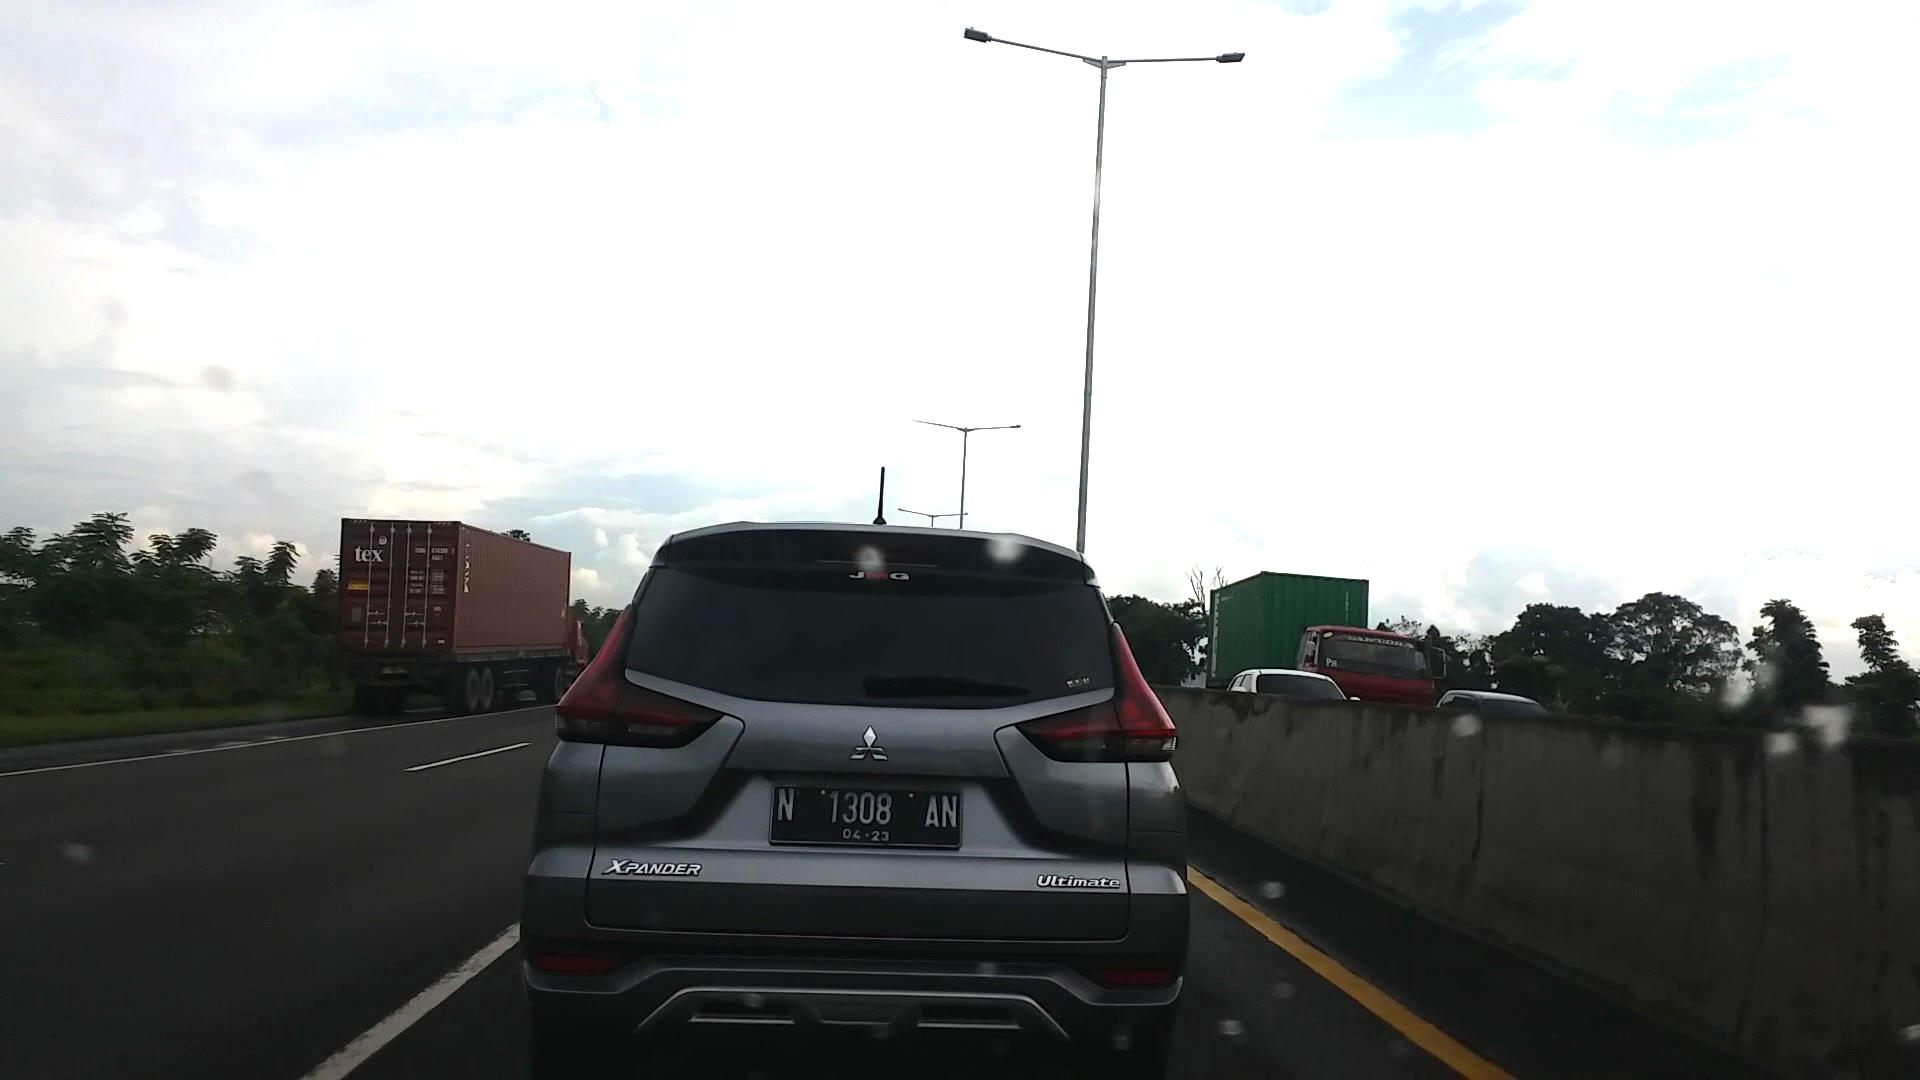plate_positive: (770, 785, 963, 851)
